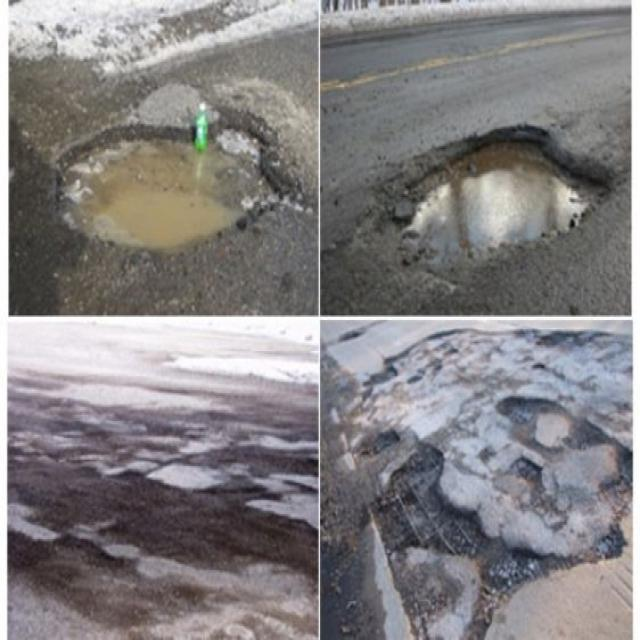Pothole: (368, 116, 618, 275), (48, 100, 298, 256)
